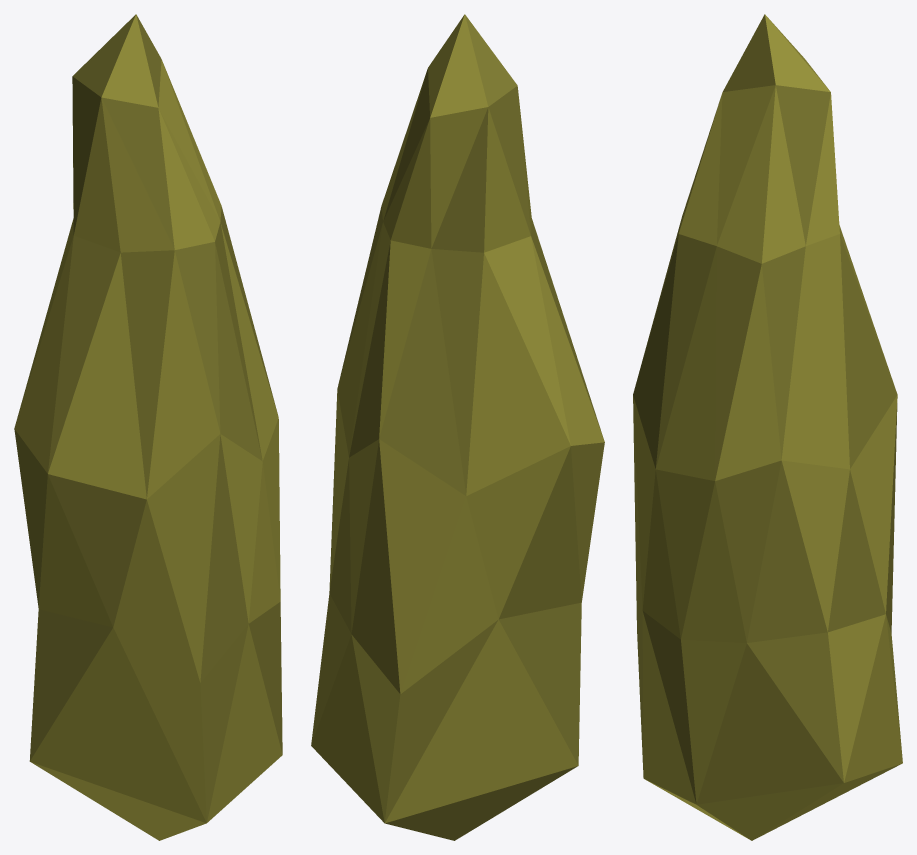
File: Tree_1_Yellow.fbx
The picture shows the model from 3 angles, left to right: view 1: azimuth 30°, elevation 25°; view 2: azimuth 150°, elevation 25°; view 3: azimuth 270°, elevation 25°; orthographic projection. The views are drawn at different scales.
Parts seen in each view (by area): view 1: Tree_1_Yellow; view 2: Tree_1_Yellow; view 3: Tree_1_Yellow.
Part boxes in pixels (x1,y1,x2,y2): Tree_1_Yellow: (14, 14, 282, 840); Tree_1_Yellow: (311, 14, 604, 840); Tree_1_Yellow: (633, 14, 902, 840).
Bounding box in the file's own units: 183 × 596 × 178.
